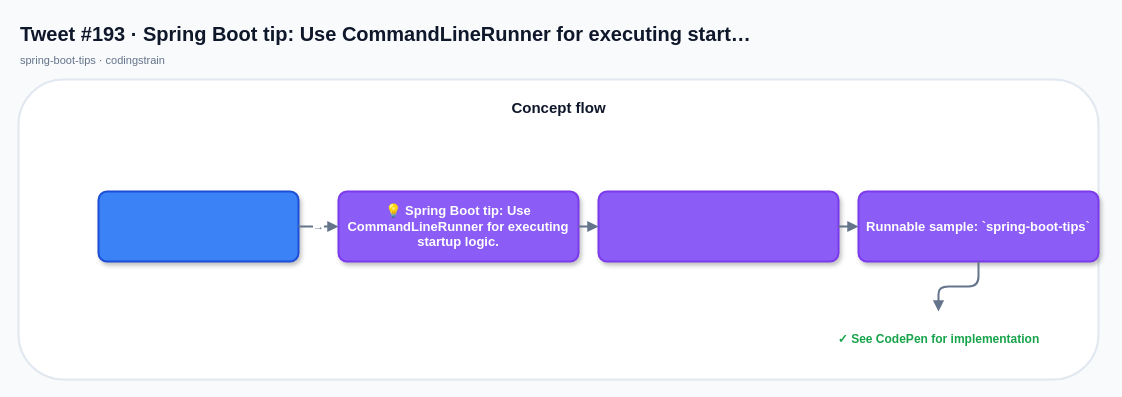
Image size: 1122x397. Some labels were removed from this diagram. Here are the shapes that lost their labels. From the top down, the centre of each, then its label:
At (199,227): "Problem / context".
At (719,227): "#SpringBoot #Java".
